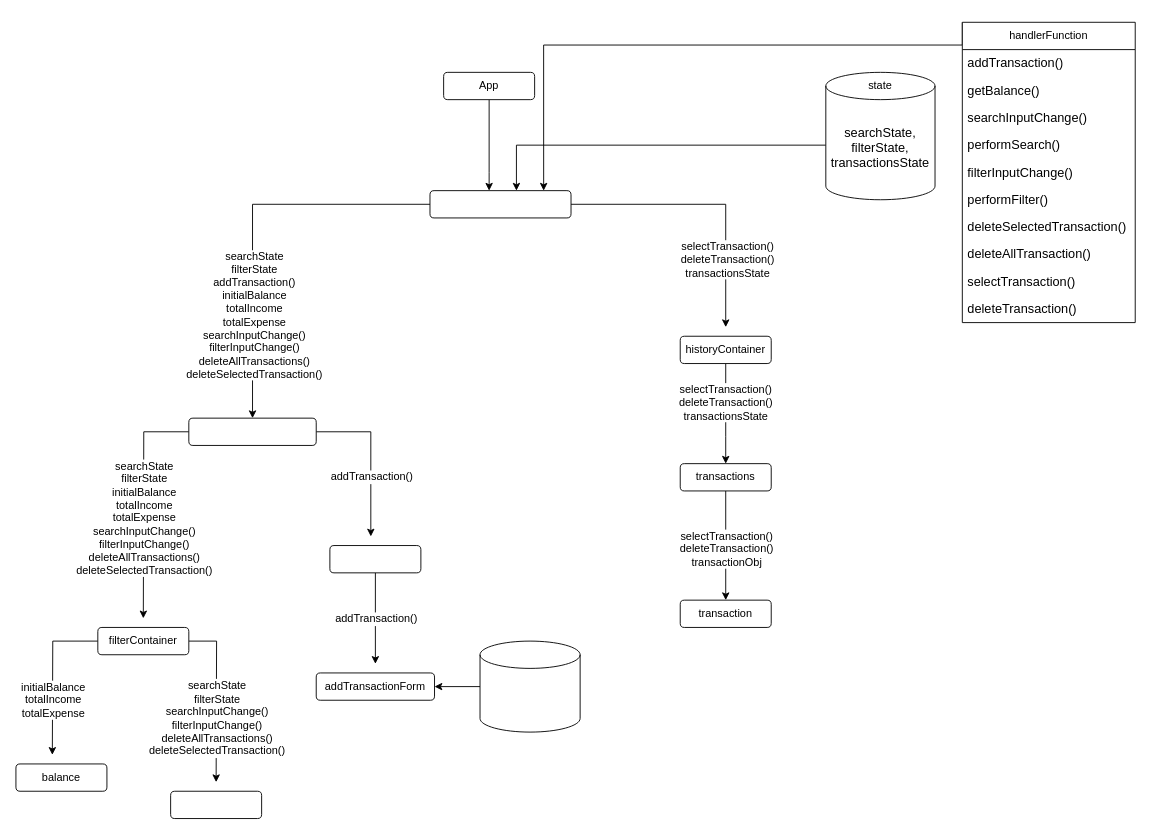
This 1151x834 diagram has some shape labels left out. The shapes that lost their labels are listed below. From the top down, each one's centre as x and y in pixels, then its label:
At (500,204): "container".
At (252,431): "addAndFilterContainer".
At (375,559): "formContainer".
At (529,686): "formState inputChange ()".
At (216,804): "filter".
